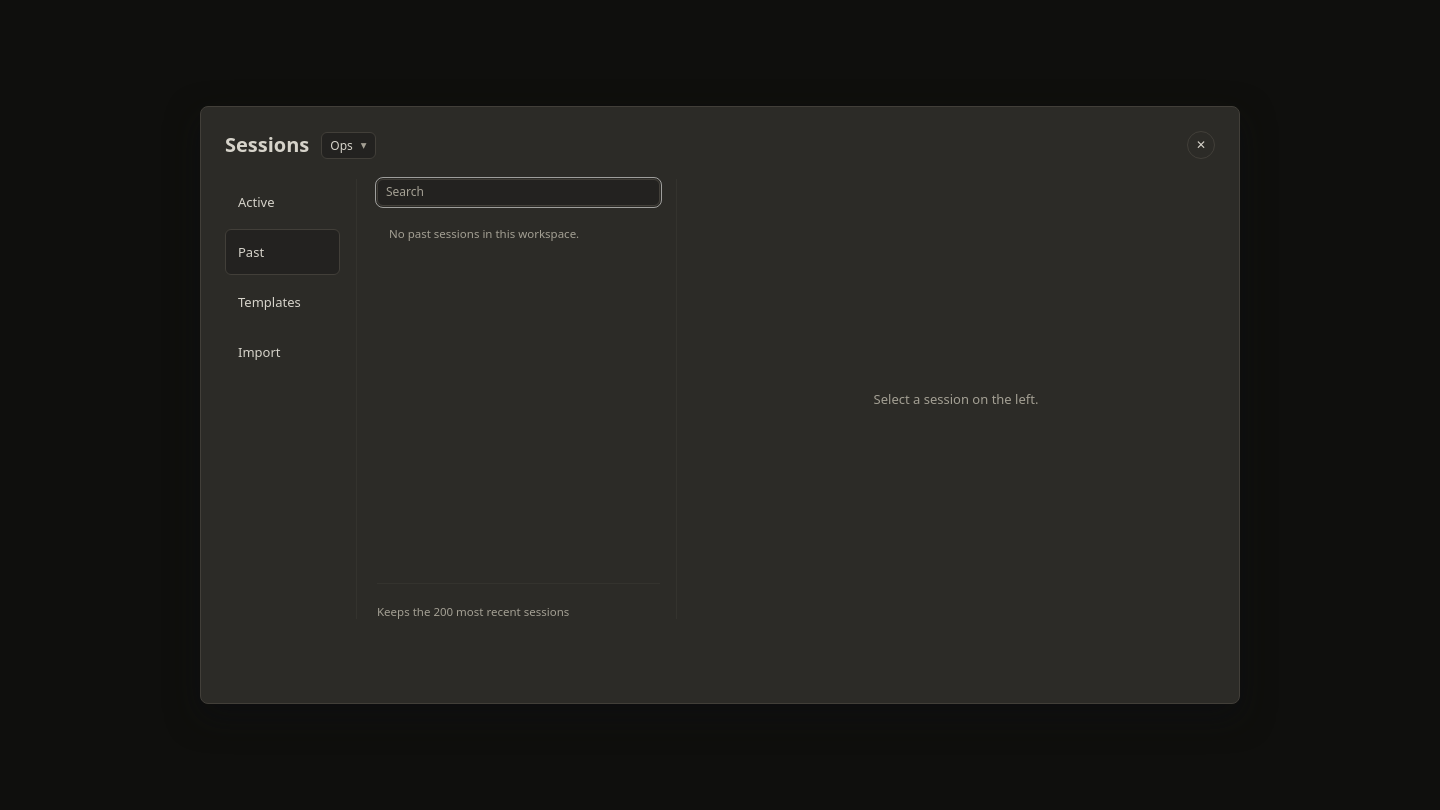
PastSessionsDialog › a record whose workspace is gone draws the orphan workspace, not its id
Click the button "Ops ▾".
click(348, 145)  # box [321,132,376,158]
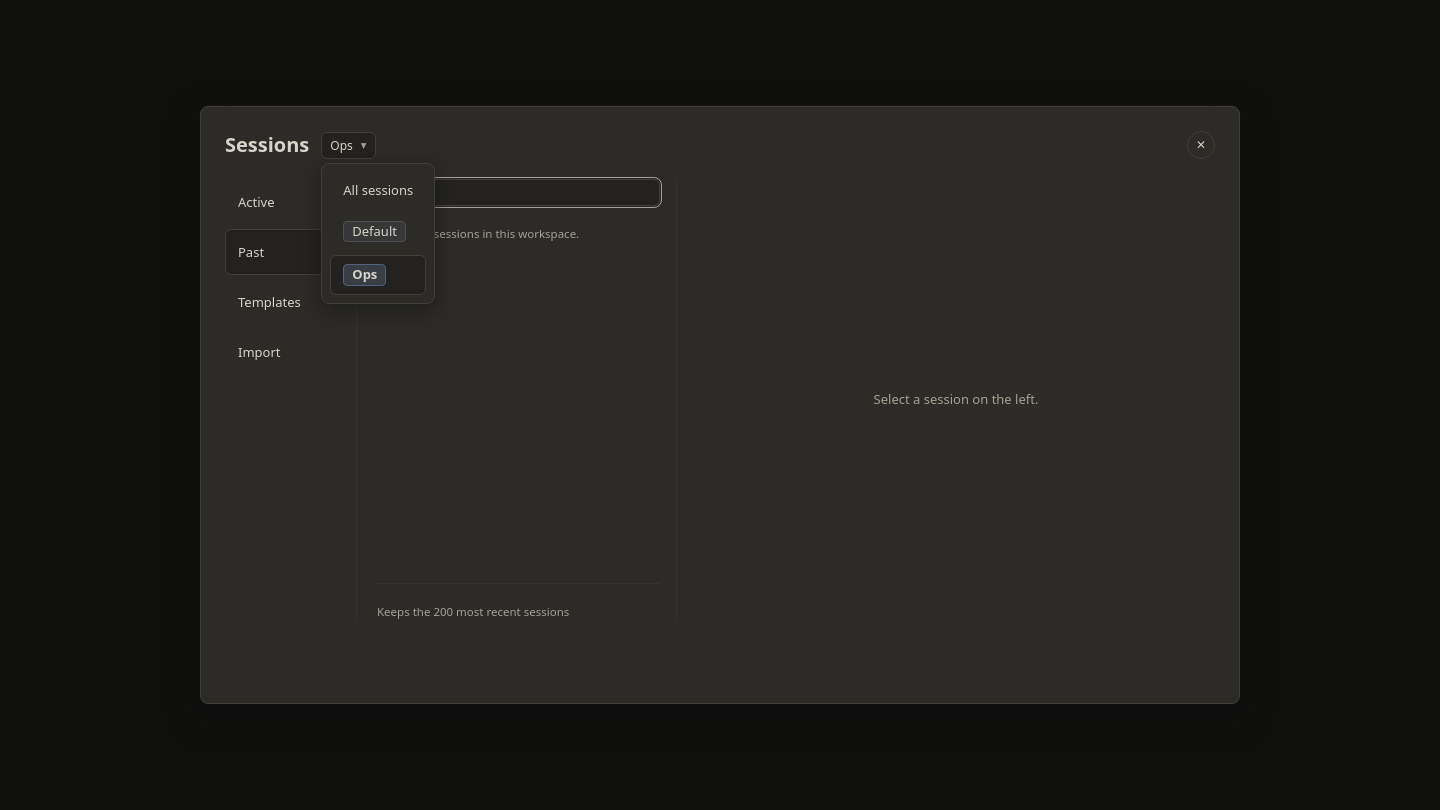
Click the option "All sessions".
click(378, 190)  # box [330,172,426,208]
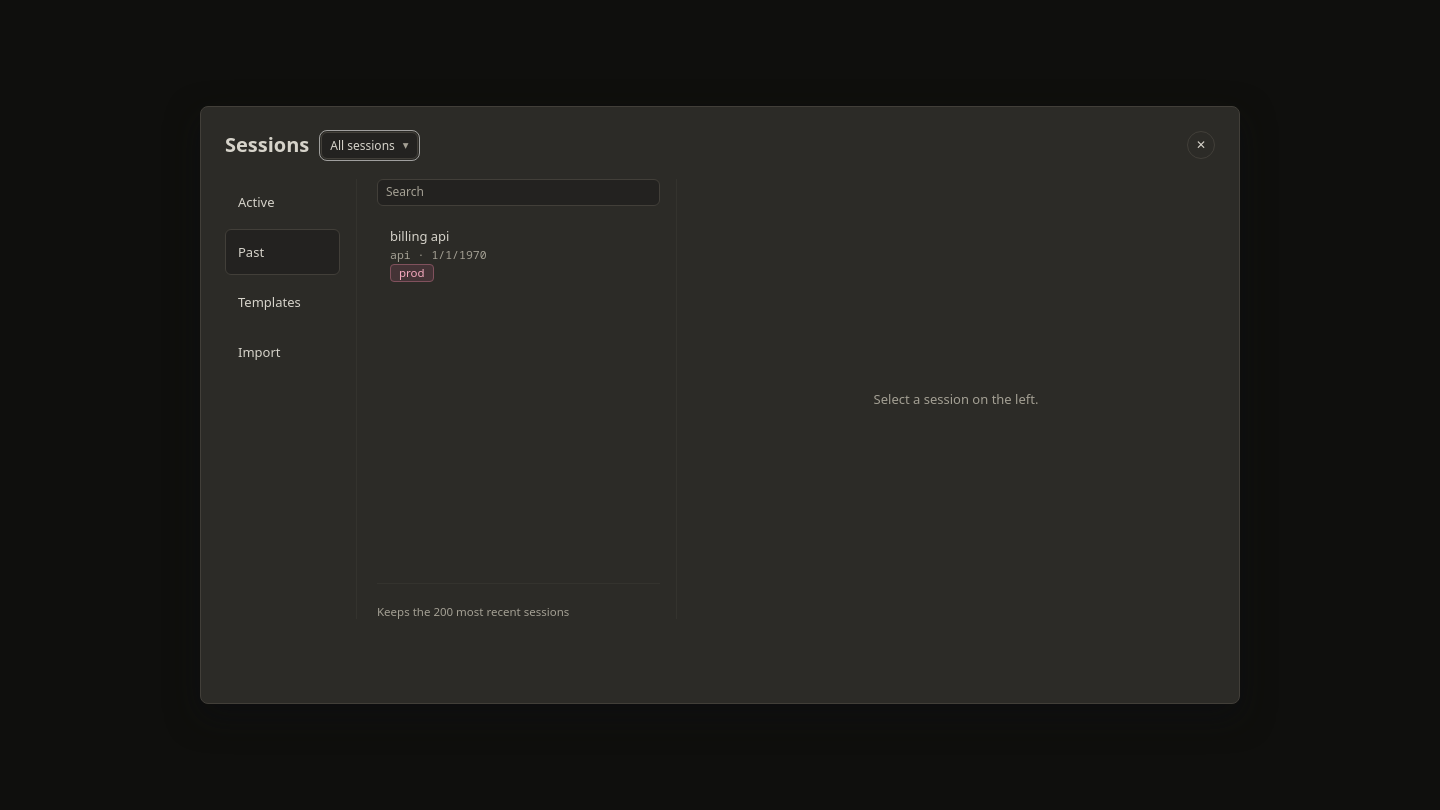
Click the button with test id "past-session-select-sa".
click(420, 236)  # box [378,219,659,290]
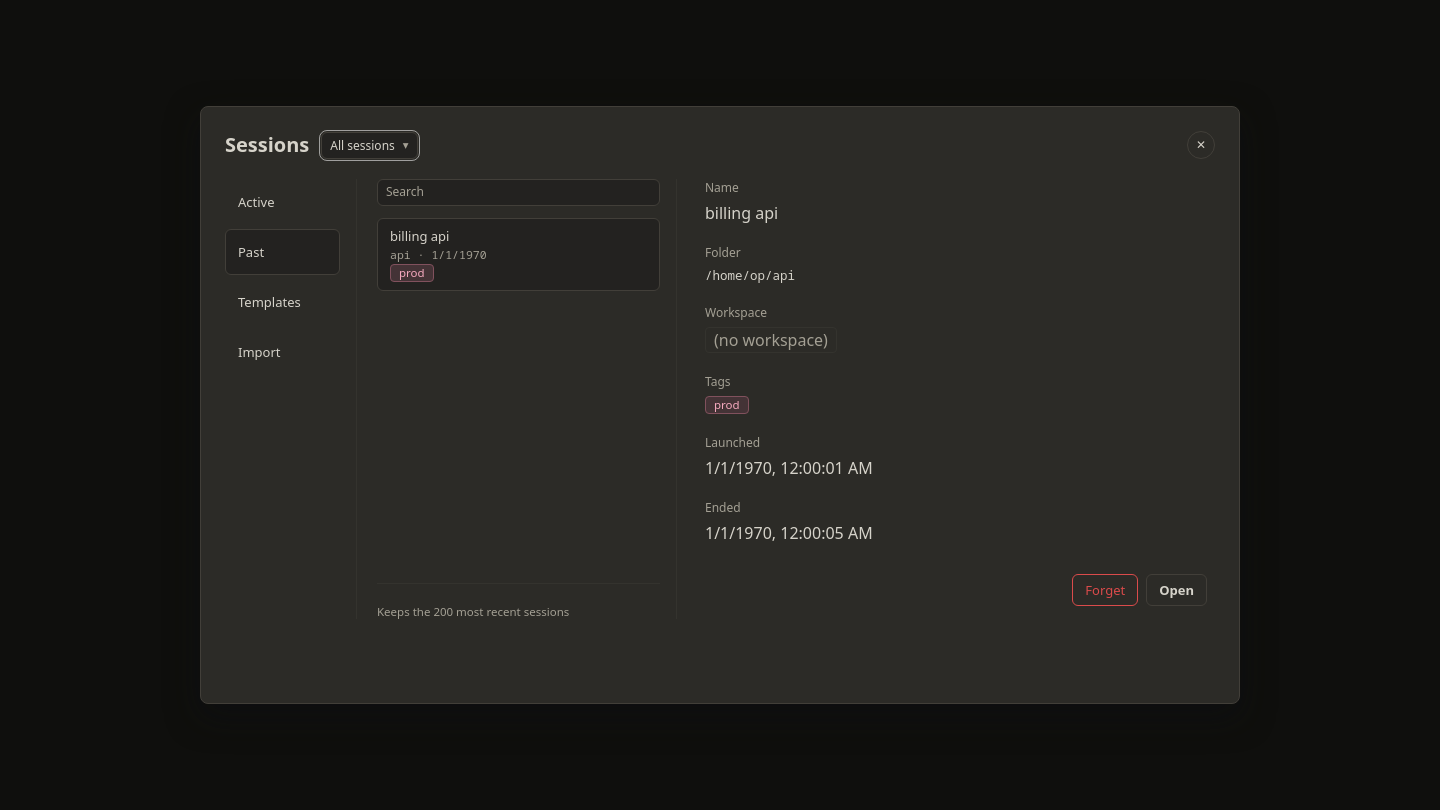
Check: the element with test id "past-session-form-workspace" reads "(no workspace)", box [714,329,828,351]
